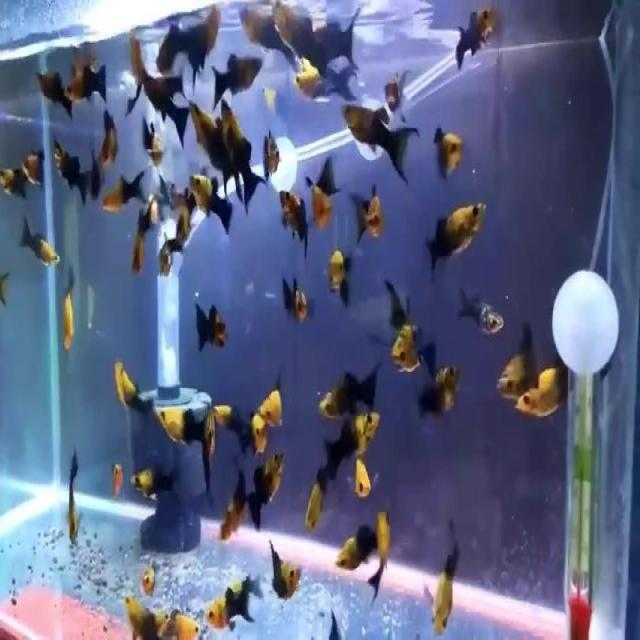PlatyFish: (334, 89, 422, 184), (414, 186, 490, 290), (424, 505, 470, 640), (148, 388, 215, 473), (201, 555, 261, 637), (319, 356, 383, 431), (206, 43, 268, 117), (188, 164, 237, 251), (451, 0, 501, 83), (275, 181, 317, 275), (14, 205, 67, 279), (100, 164, 150, 213)
